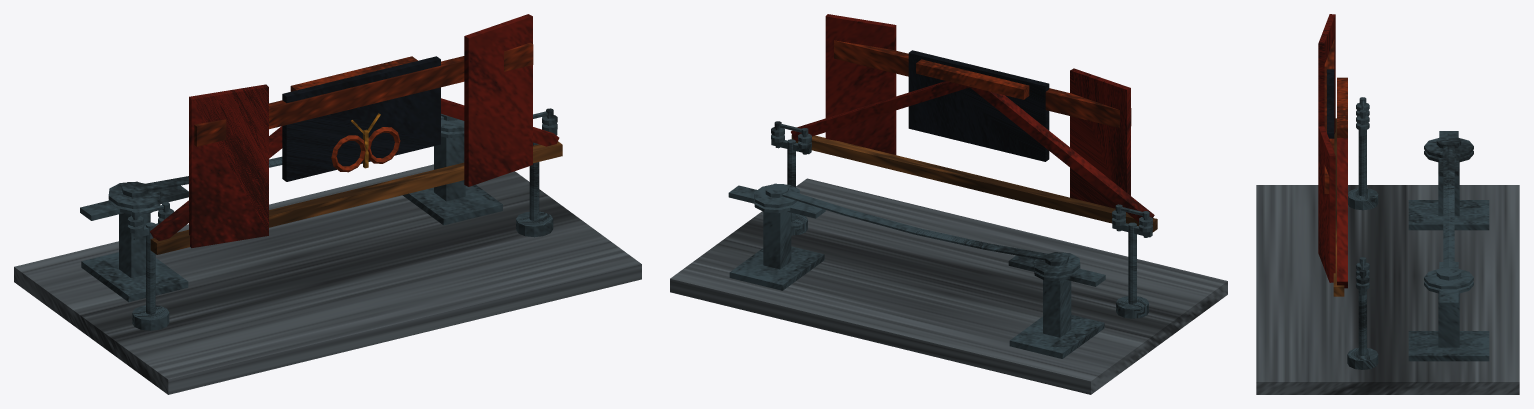
File: south-quiet-road-gate.glb
The picture shows the model from 3 angles, left to right: view 1: azimuth 30°, elevation 25°; view 2: azimuth 150°, elevation 25°; view 3: azimuth 270°, elevation 25°; orthographic projection. The views are drawn at different scales.
Parts seen in each view (by area): view 1: south-quiet-road-gate; view 2: south-quiet-road-gate; view 3: south-quiet-road-gate.
Boxes of the visible parts, x1,y1,x2,y2 form: south-quiet-road-gate: (14,14,641,394); south-quiet-road-gate: (670,14,1227,394); south-quiet-road-gate: (1256,14,1519,394).
Size of the model in its own units: 7.8 by 3.9 by 4.4.
Materials: 1 (1 with a texture image).
